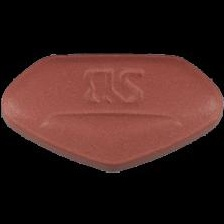55154-4518: (0, 0, 224, 224)
